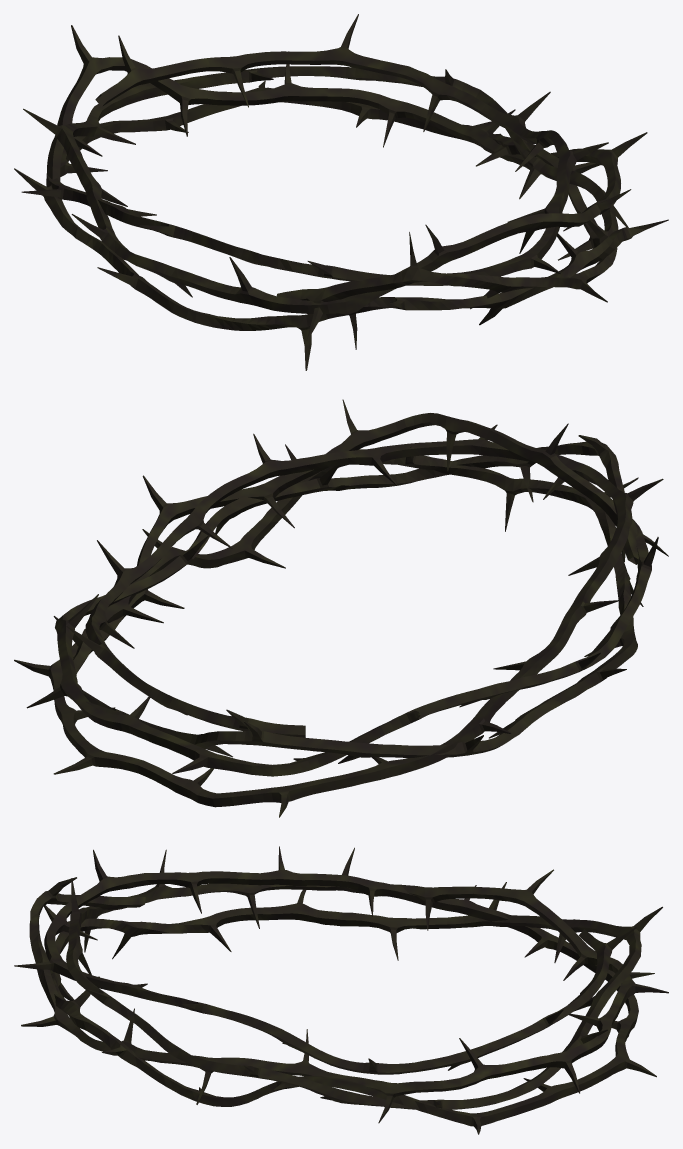
File: mhw_grinsegold_uncle_joshis_hat.glb
3 renders of one model, top to bottom at view 1: azimuth 30°, elevation 25°; view 2: azimuth 150°, elevation 25°; view 3: azimuth 270°, elevation 25°, orthographic. The views are drawn at different scales.
Parts seen in each view (by area): view 1: mhw_grinsegold_uncle_joshis_hat; view 2: mhw_grinsegold_uncle_joshis_hat; view 3: mhw_grinsegold_uncle_joshis_hat.
Part boxes in pixels (x1,y1,x2,y2): mhw_grinsegold_uncle_joshis_hat: [14, 14, 668, 370]; mhw_grinsegold_uncle_joshis_hat: [14, 399, 668, 817]; mhw_grinsegold_uncle_joshis_hat: [14, 846, 668, 1134].
Bounding box in the file's own units: 0.2365 × 0.0666 × 0.2974.
1 material, 1 textured.
